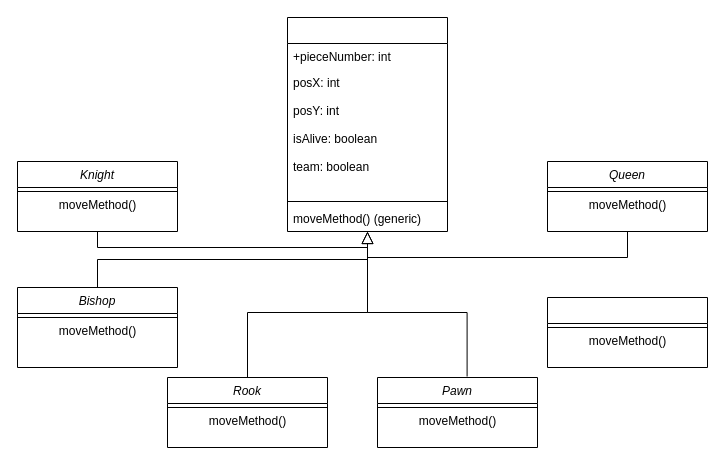
This 725x465 diagram has some shape labels left out. The box of each missing label's shape, as (x1, y1, x2, y2) in pixels:
King: (546, 296, 708, 368)
Pieces (Parent): (286, 16, 448, 232)
